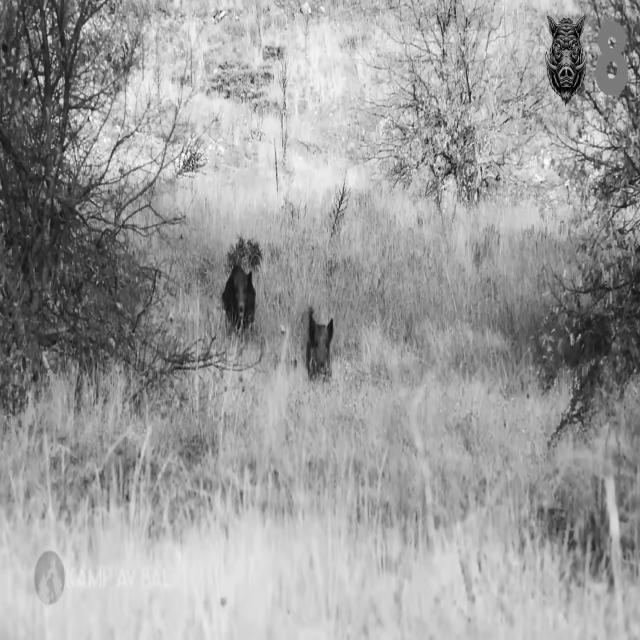boar: (222, 236, 262, 328), (222, 265, 255, 328), (306, 308, 332, 377)
